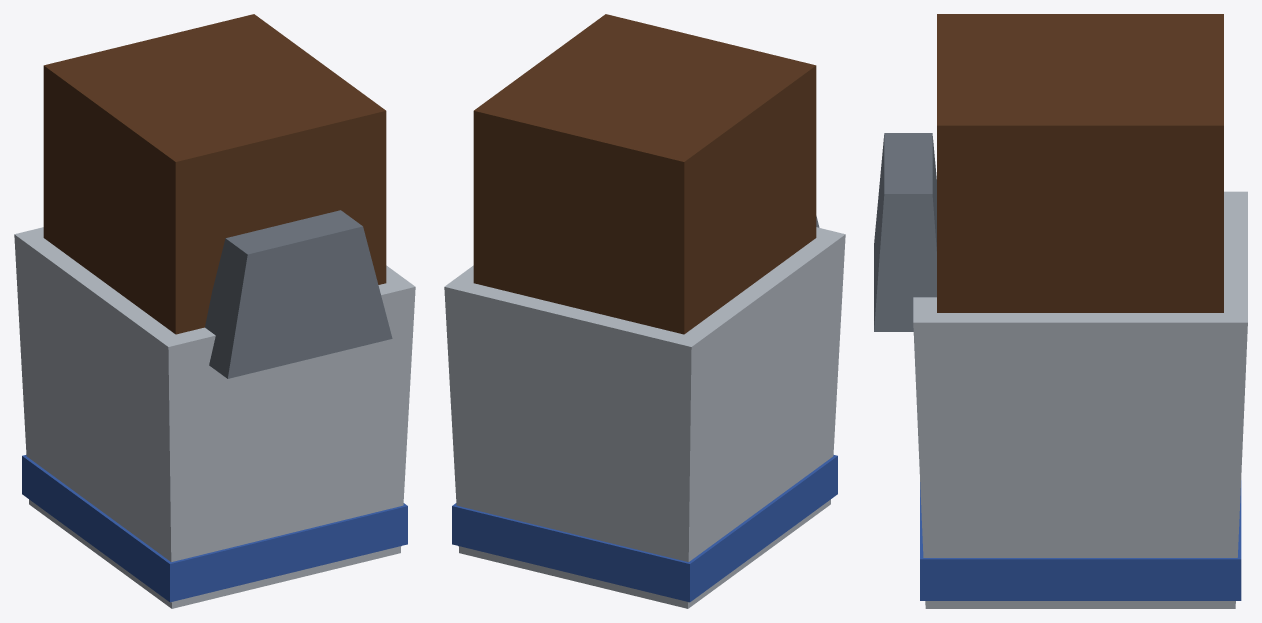
File: steel_greaves.glb
3 views of the same model, side by side, from view 1: azimuth 30°, elevation 25°; view 2: azimuth 150°, elevation 25°; view 3: azimuth 270°, elevation 25° (orthographic). The views are drawn at different scales.
Parts seen in each view (by area): view 1: steel_greaves; view 2: steel_greaves; view 3: steel_greaves.
Part boxes in pixels (left/top/right/bottom): steel_greaves: left=14, top=14, right=415, bottom=608; steel_greaves: left=444, top=14, right=845, bottom=608; steel_greaves: left=874, top=14, right=1247, bottom=608.
Size of the model in its own units: 0.27 by 0.46 by 0.3258.
